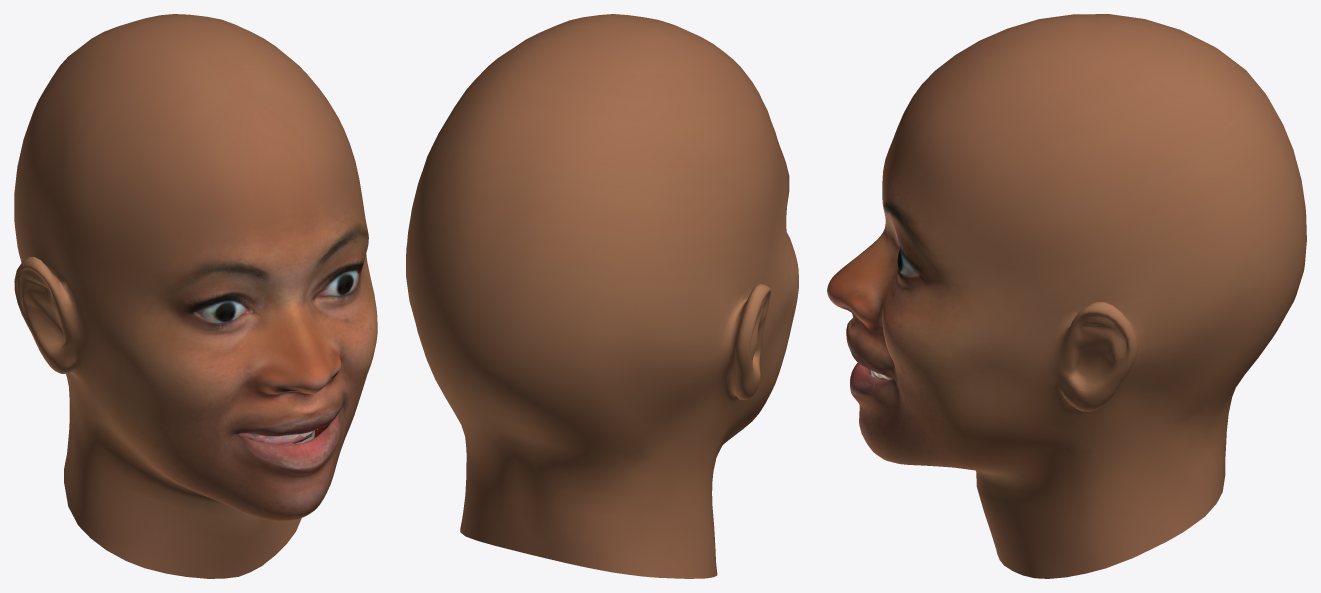
The model's file is v332_obj_ExpressionSmileOpen.obj.
3 views of the same model, side by side, from view 1: azimuth 30°, elevation 25°; view 2: azimuth 150°, elevation 25°; view 3: azimuth 270°, elevation 25° (orthographic). The views are drawn at different scales.
Visible parts, largest first — view 1: HeadHires, Mouth; view 2: HeadHires; view 3: HeadHires.
Part boxes in pixels (left/top/right/bottom): HeadHires: left=14, top=14, right=377, bottom=578; Mouth: left=239, top=423, right=329, bottom=444; HeadHires: left=406, top=14, right=798, bottom=578; HeadHires: left=827, top=14, right=1306, bottom=578.
Size of the model in its own units: 187 by 282 by 233.
